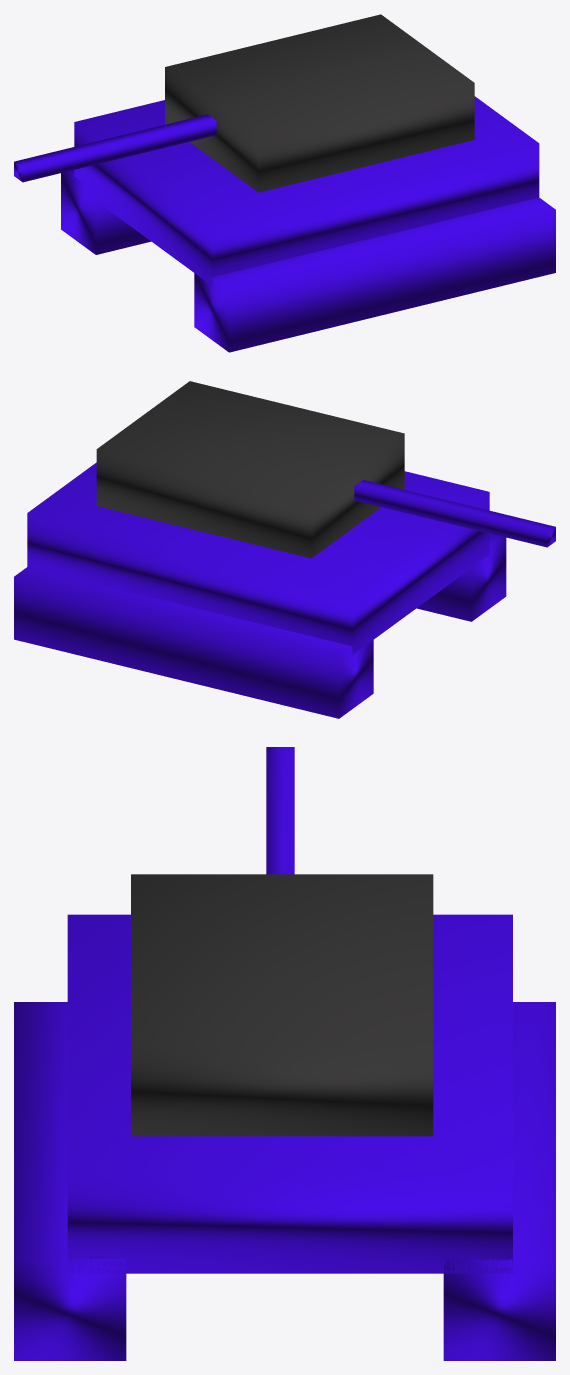
File: bluetank.glb
3 renders of one model, top to bottom at view 1: azimuth 30°, elevation 25°; view 2: azimuth 150°, elevation 25°; view 3: azimuth 270°, elevation 25°, orthographic. The views are drawn at different scales.
Visible parts, largest first — view 1: Cube.002, Cube.003, Cube, Cube.004, Cube.001; view 2: Cube.002, Cube.003, Cube.001, Cube.004, Cube; view 3: Cube.002, Cube.003, Cube, Cube.001, Cube.004.
Boxes of the visible parts, x1,y1,x2,y2 form: Cube.002: [74, 96, 539, 285]; Cube.003: [165, 14, 474, 192]; Cube: [194, 197, 555, 352]; Cube.004: [14, 114, 216, 182]; Cube.001: [61, 170, 150, 254]; Cube.002: [27, 462, 489, 654]; Cube.003: [96, 381, 404, 558]; Cube.001: [14, 567, 373, 718]; Cube.004: [354, 480, 555, 547]; Cube: [416, 533, 506, 621]; Cube.002: [67, 914, 512, 1273]; Cube.003: [131, 874, 433, 1136]; Cube: [14, 1002, 126, 1360]; Cube.001: [443, 1002, 555, 1360]; Cube.004: [266, 747, 294, 874].
Size of the model in its own units: 15.08 by 5.52 by 9.64.
